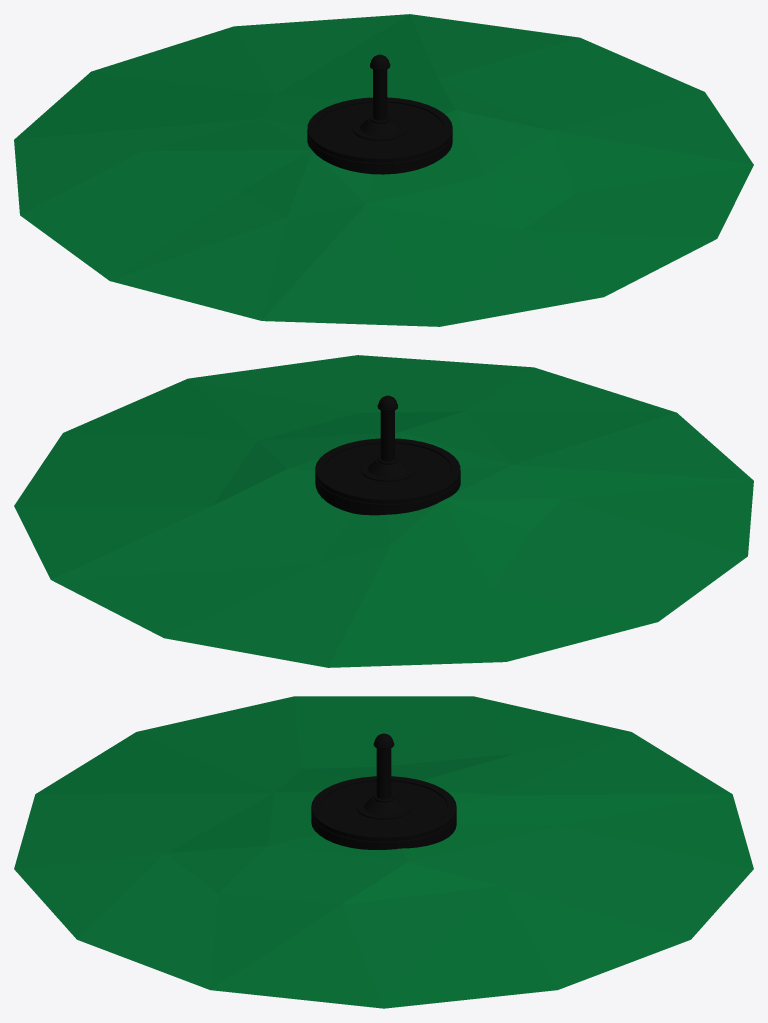
The model's file is minigun_holder_02.FBX.
The picture shows the model from 3 angles, top to bottom: view 1: azimuth 30°, elevation 25°; view 2: azimuth 150°, elevation 25°; view 3: azimuth 270°, elevation 25°; orthographic projection.
Visible parts, largest first — view 1: minigun_ground, minigun_holder; view 2: minigun_ground, minigun_holder; view 3: minigun_ground, minigun_holder.
Boxes of the visible parts, <box> form: minigun_ground: <box>14,14,753,326</box>; minigun_holder: <box>307,54,452,174</box>; minigun_ground: <box>14,355,753,667</box>; minigun_holder: <box>315,395,460,515</box>; minigun_ground: <box>14,696,753,1008</box>; minigun_holder: <box>311,733,456,849</box>.
Bounding box in the file's own units: 499 × 86.21 × 500.
